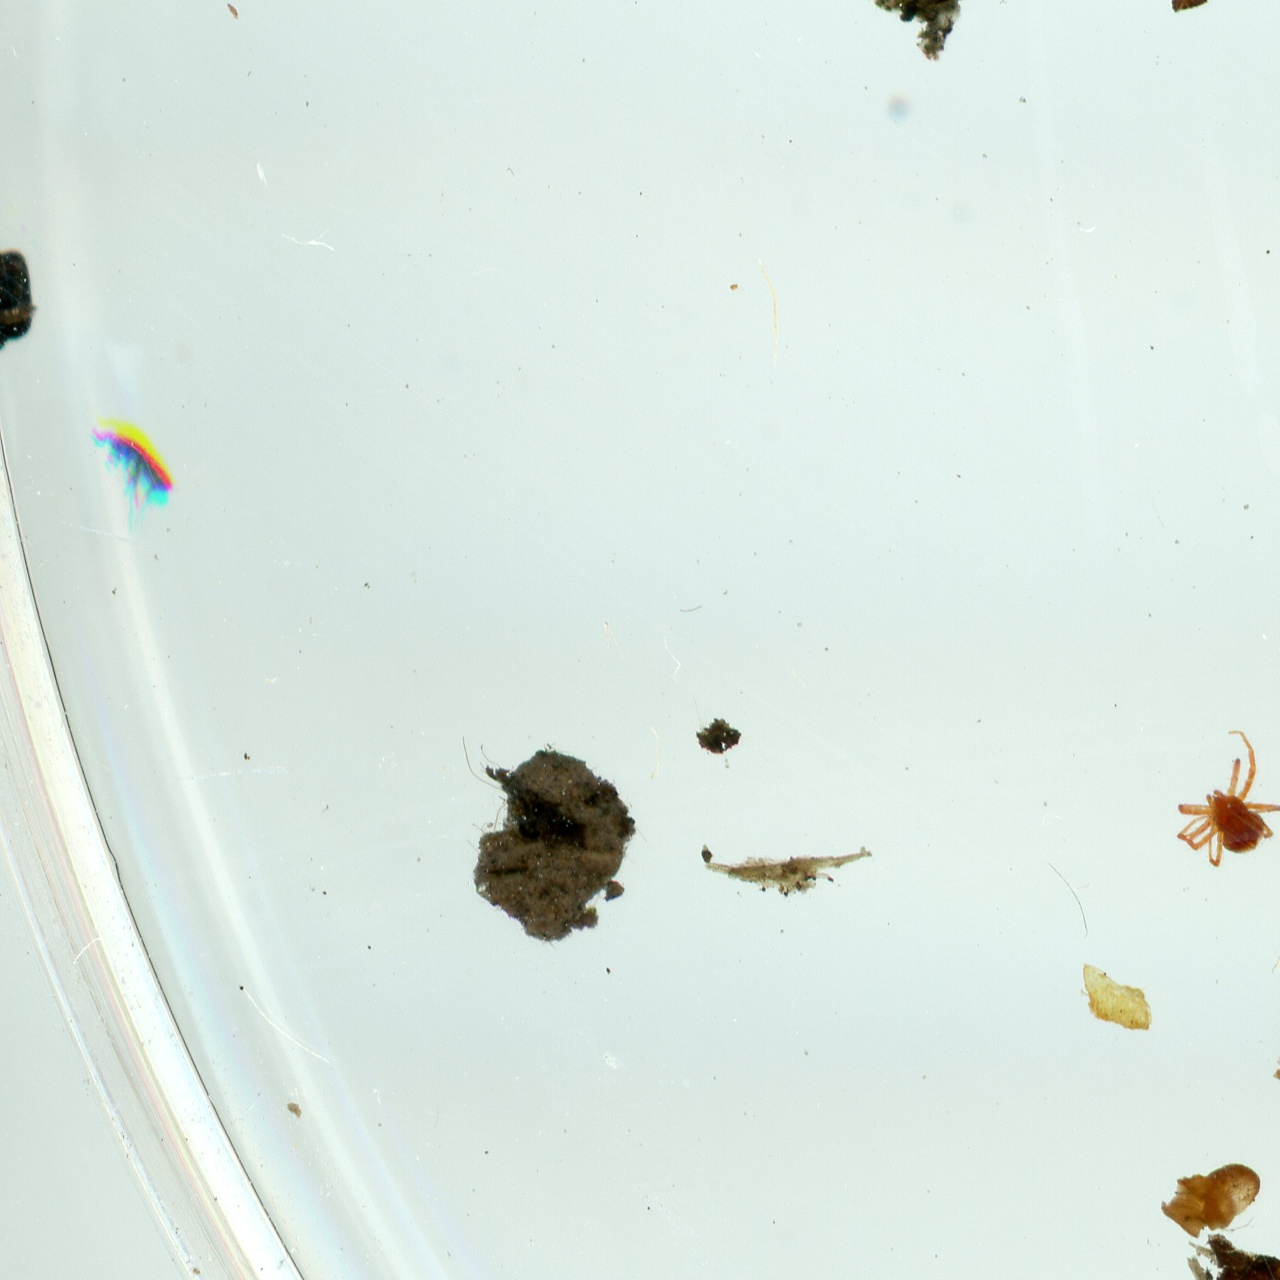arthropod: (1138, 716, 1280, 887), (76, 404, 192, 525)
